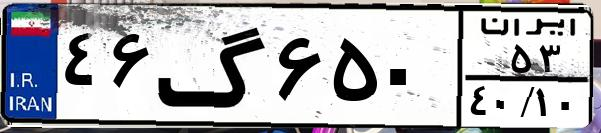0: (385, 28, 445, 110), (560, 70, 590, 125), (495, 70, 520, 125)
1: (535, 70, 560, 125)
3: (537, 27, 568, 80)
4: (57, 26, 110, 100), (470, 70, 495, 125)
5: (330, 28, 385, 110), (508, 27, 537, 80)
6: (270, 28, 330, 110), (110, 28, 156, 98)
گ: (156, 12, 270, 120)
